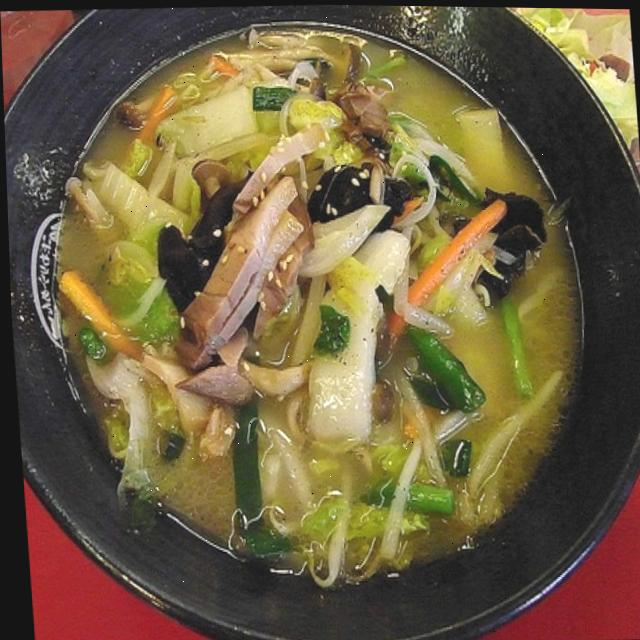面条主食: (74, 78, 568, 570)
